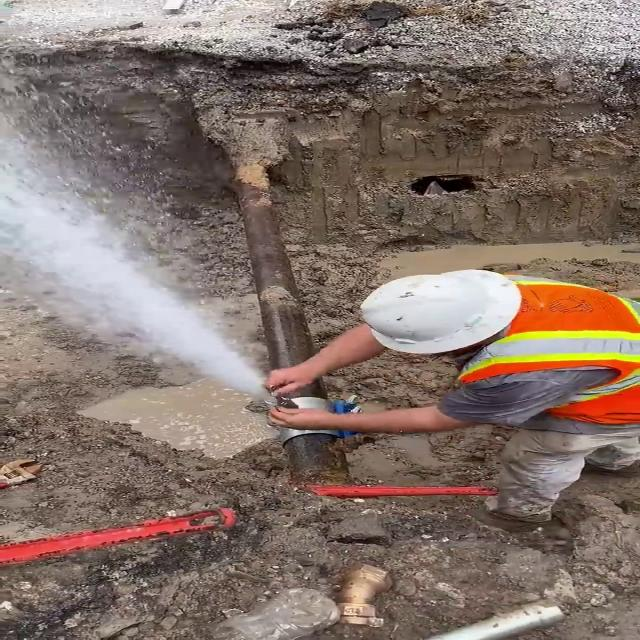leak: (0, 116, 262, 406)
